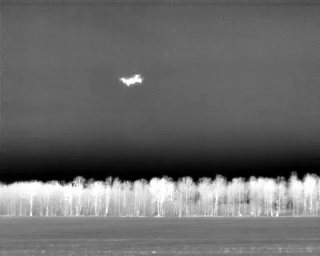DRONE: (116, 69, 147, 91)
